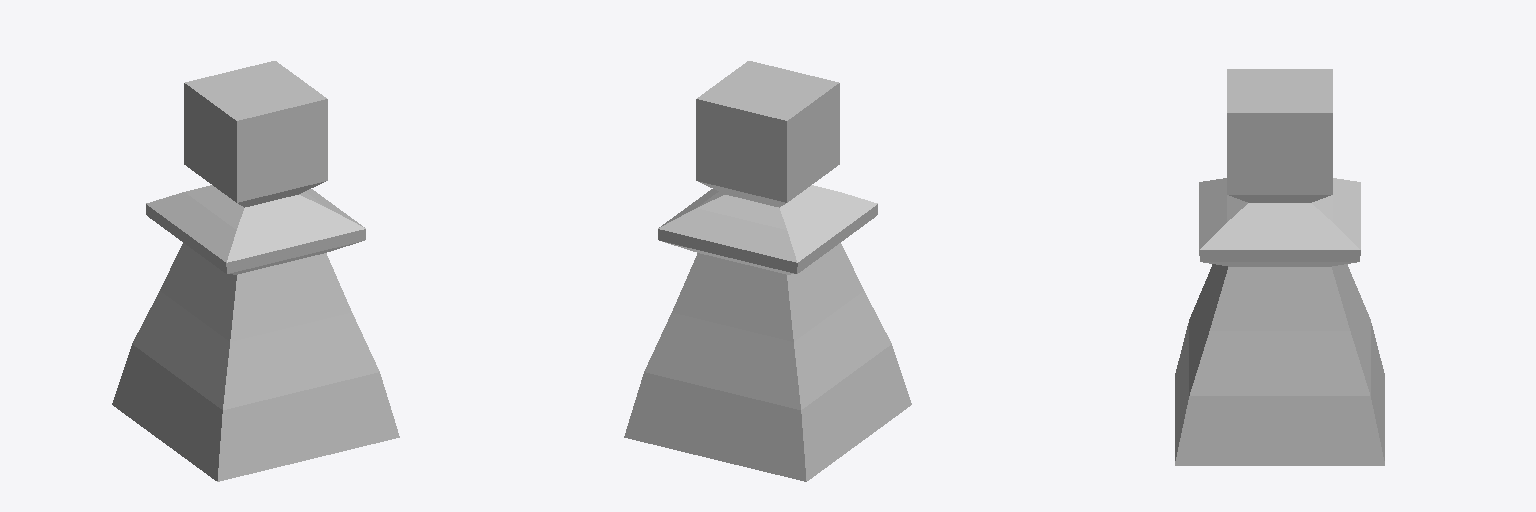
File: Pawn.obj
3 renders of one model, left to right at view 1: azimuth 30°, elevation 25°; view 2: azimuth 150°, elevation 25°; view 3: azimuth 270°, elevation 25°, orthographic.
Visible parts, largest first — view 1: Pawn; view 2: Pawn; view 3: Pawn.
Part boxes in pixels (left/top/right/bottom): Pawn: left=112, top=61, right=399, bottom=481; Pawn: left=624, top=61, right=911, bottom=481; Pawn: left=1175, top=69, right=1384, bottom=465.
Bounding box in the file's own units: 2 × 3.46 × 2.